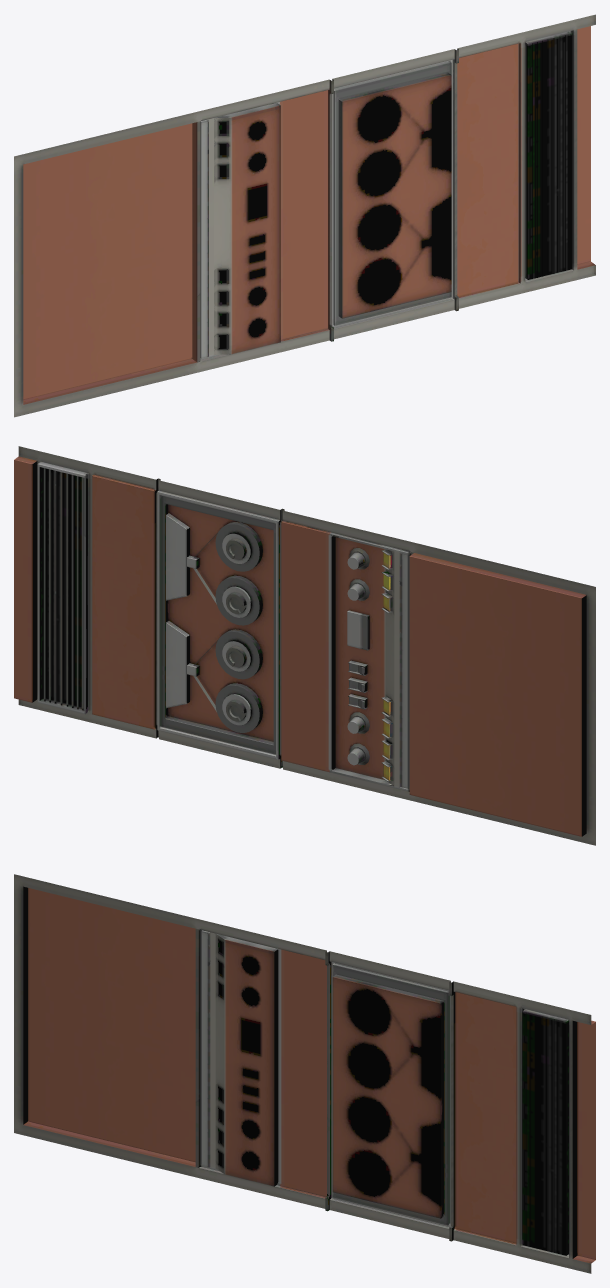
File: props_spytech_computer_wall04.glb
3 views of the same model, one above another, from view 1: azimuth 30°, elevation 25°; view 2: azimuth 150°, elevation 25°; view 3: azimuth 330°, elevation 25° (orthographic).
Parts seen in each view (by area): view 1: models/props_spytech/computer_wall04; view 2: models/props_spytech/computer_wall04; view 3: models/props_spytech/computer_wall04.
Part boxes in pixels (<box>): models/props_spytech/computer_wall04: <box>14,14,595,417</box>; models/props_spytech/computer_wall04: <box>14,446,595,845</box>; models/props_spytech/computer_wall04: <box>14,874,595,1273</box>.
Bounding box in the file's own units: 112 × 48 × 2.79.
Materials: 1 (1 with a texture image).
